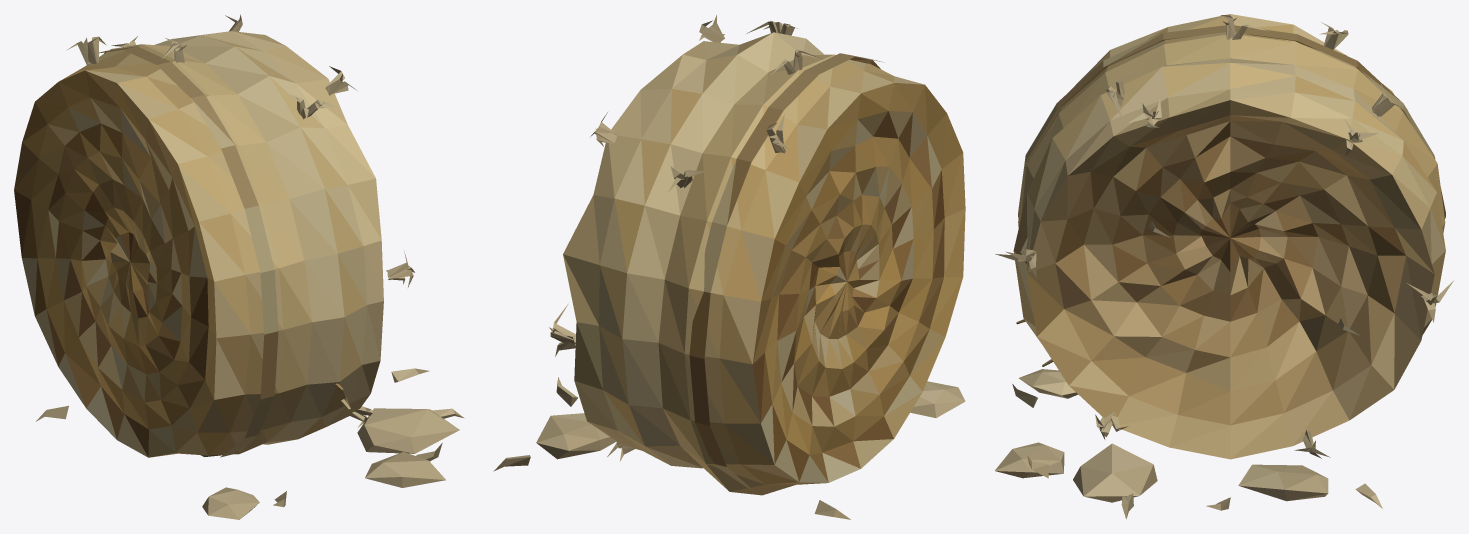
Rendered from haystack-used.glb.
The picture shows the model from 3 angles, left to right: view 1: azimuth 30°, elevation 25°; view 2: azimuth 150°, elevation 25°; view 3: azimuth 270°, elevation 25°; orthographic projection. The views are drawn at different scales.
Parts seen in each view (by area): view 1: bale, loose_straw, twine; view 2: bale, loose_straw, twine; view 3: bale, loose_straw, twine.
Boxes of the visible parts, x1=… form: bale: x1=14, y1=31, x2=383, y2=457; loose_straw: x1=36, y1=14, x2=464, y2=519; twine: x1=99, y1=46, x2=350, y2=457; bale: x1=563, y1=32, x2=965, y2=495; loose_straw: x1=493, y1=15, x2=965, y2=519; twine: x1=689, y1=53, x2=884, y2=488; bale: x1=1013, y1=14, x2=1445, y2=459; loose_straw: x1=995, y1=15, x2=1453, y2=519; twine: x1=1016, y1=25, x2=1445, y2=366.
Bounding box in the file's own units: 1.3 × 1.47 × 1.55.
